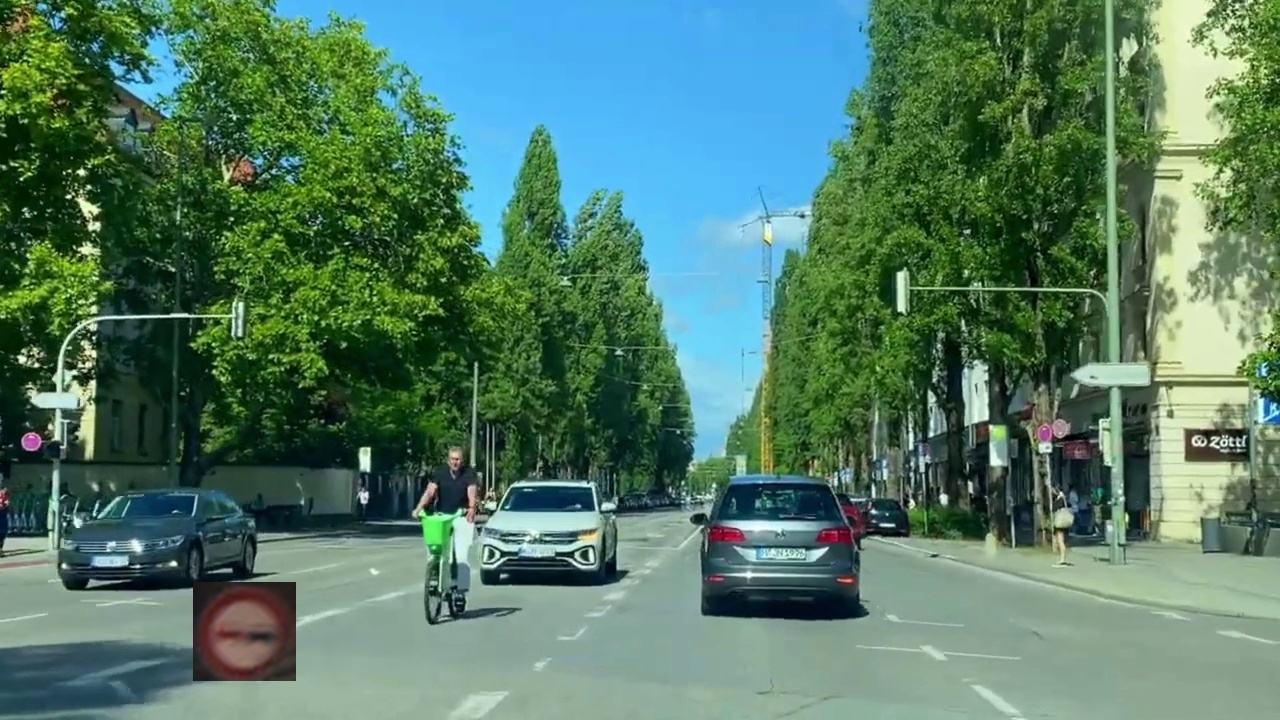No passing: (193, 582, 296, 681)
